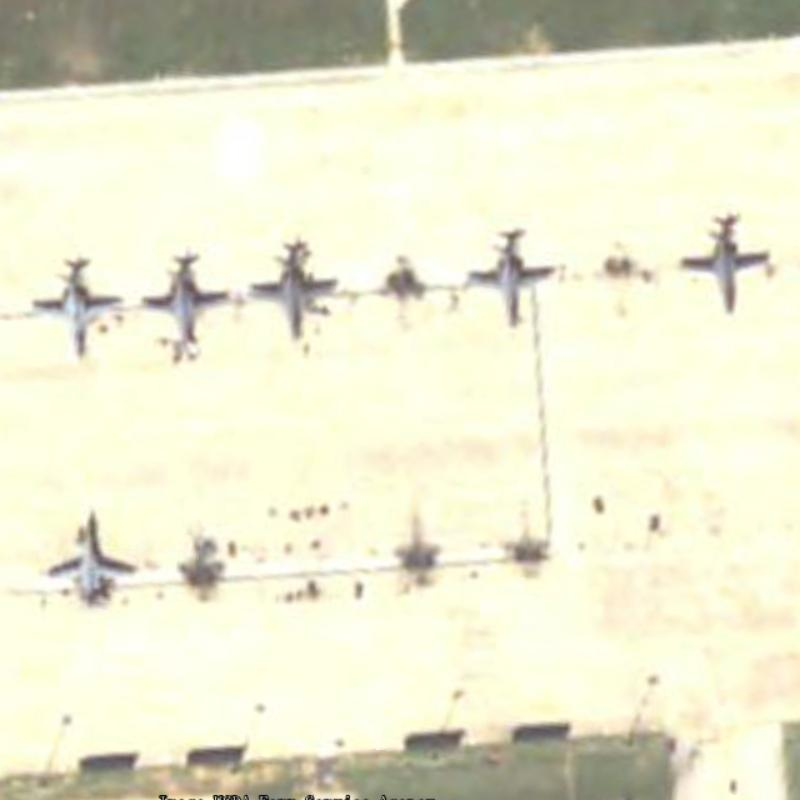A10: (31, 244, 132, 365), (671, 206, 783, 315), (240, 227, 341, 346), (460, 219, 559, 332), (40, 503, 144, 607), (141, 240, 232, 358)
